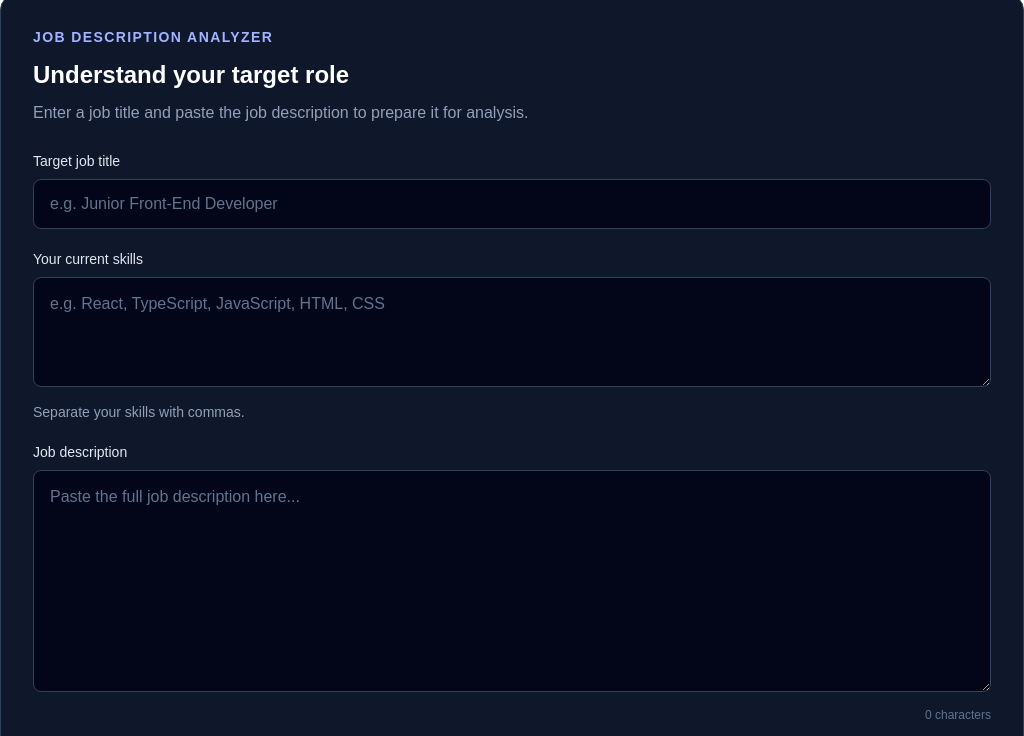
Test: JobDescriptionAnalyzer › displays detected skills after a valid submission
Type "Junior Front-End Developer" into the field labelled "Target job title". click: (512, 204)
box: x1=33 y1=179 x2=991 y2=229
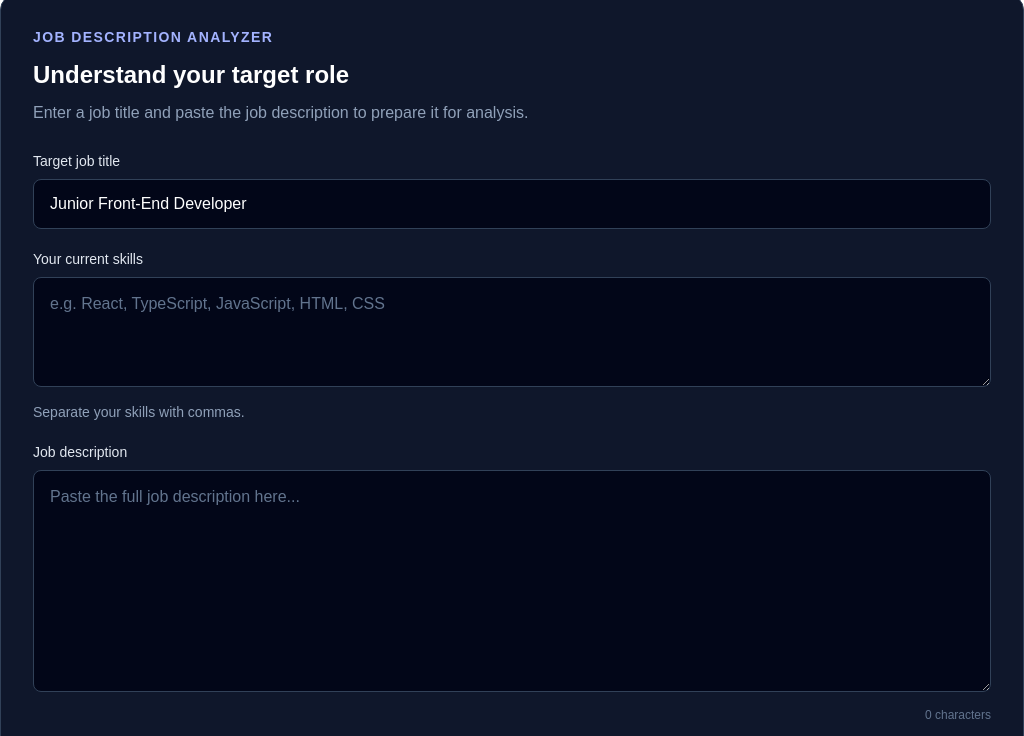
Type "We need React and TypeScript skills to build modern web applications." into the text box labelled "Job description". click: (512, 581)
box: x1=33 y1=470 x2=991 y2=692
(page scrolled)
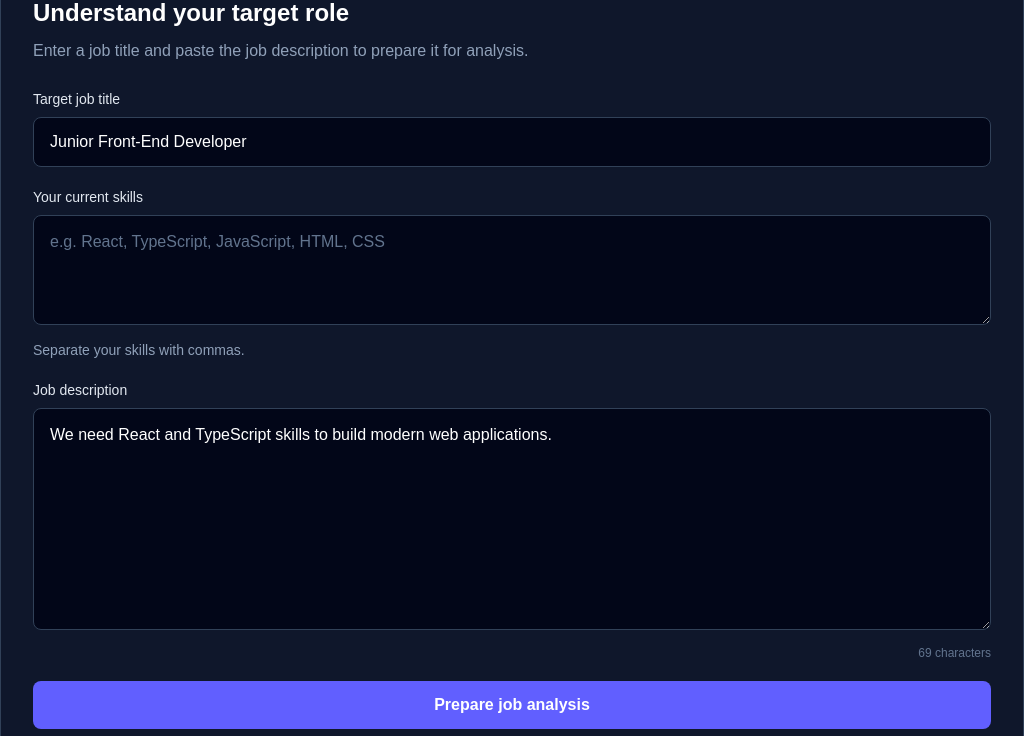
Click the button "Prepare job analysis". click: click(512, 705)
box: x1=33 y1=681 x2=991 y2=729
(page scrolled)
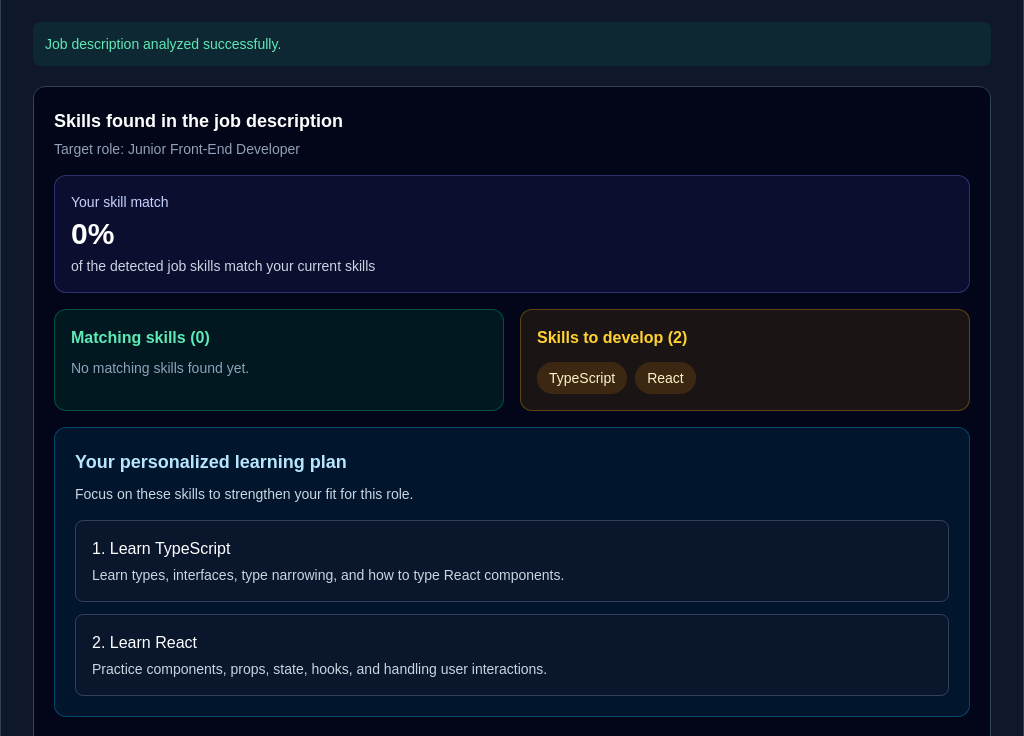
Now the message reads "Job description analyzed successfully.", box x1=45 y1=36 x2=281 y2=52
Now the heading "Skills found in the job description" is shown, box x1=54 y1=111 x2=343 y2=131
Now the text "React" is shown, box x1=635 y1=362 x2=696 y2=394
